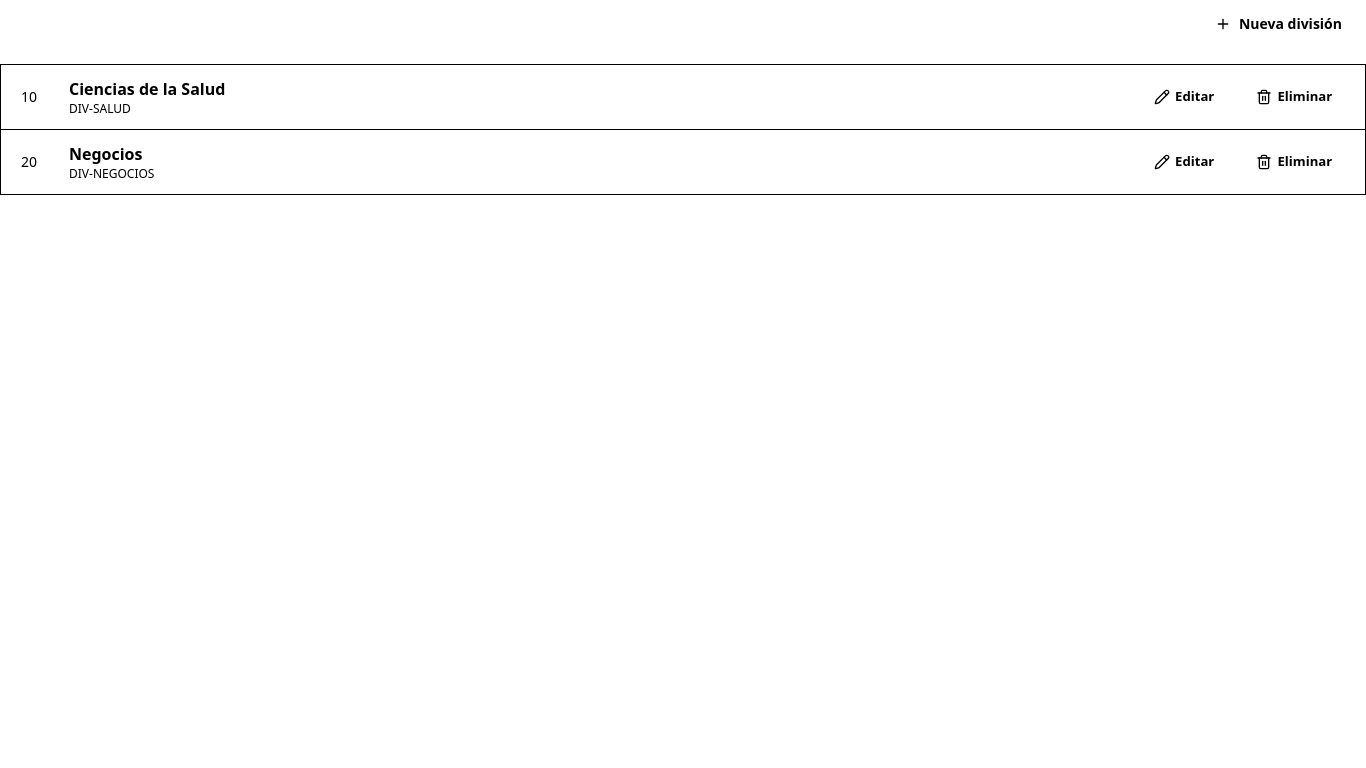
Scenario: singular wording for one career, one workshop and one shared workshop
The width and height of the screenshot is (1366, 768).
Click the button with aria-label "Eliminar Ciencias de la Salud": (1294, 97) [1243,77,1345,117]
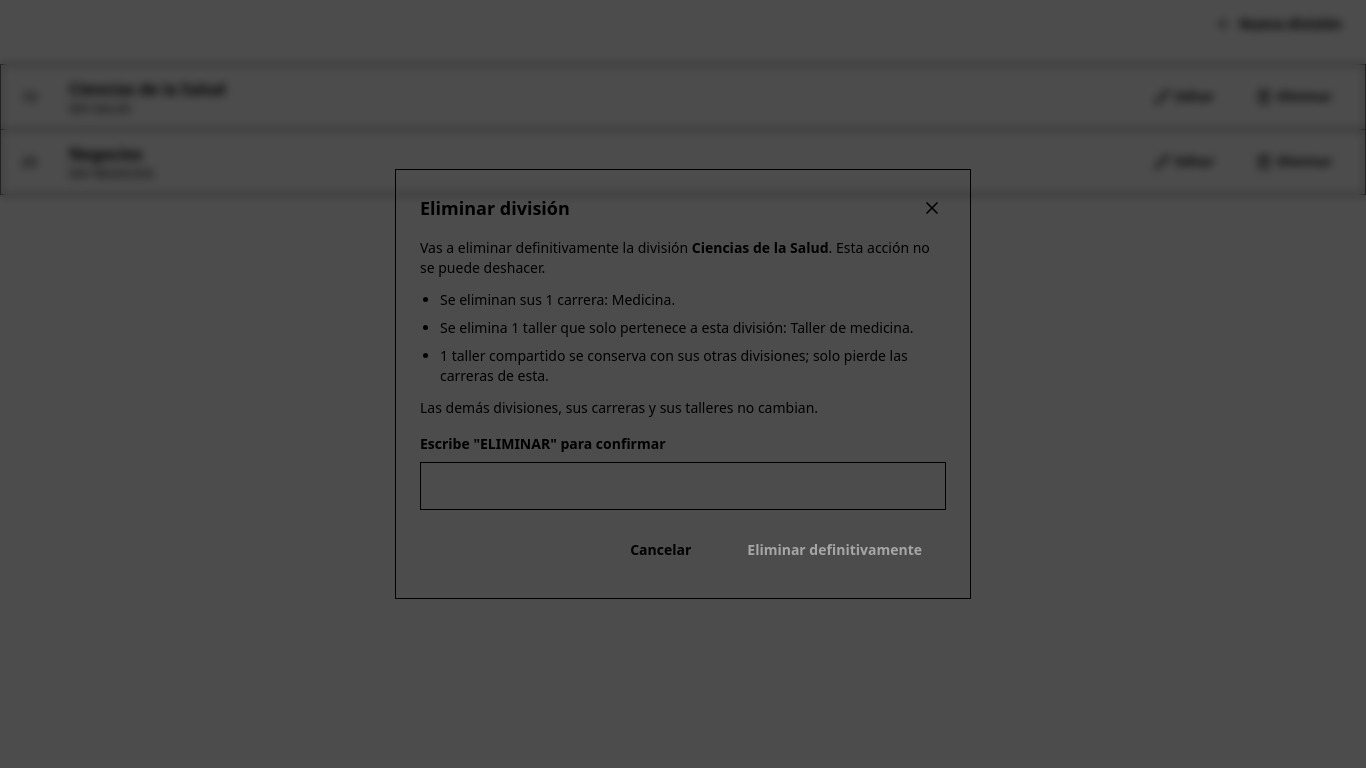
Check: the list item "Se eliminan sus 1 carrera: Medicina." is shown, box [440,290,675,309]
Check: the list item "Se elimina 1 taller que solo pertenece a esta división: Taller de medicina." is shown, box [440,318,946,338]
Check: the list item "1 taller compartido se conserva con sus otras divisiones; solo pierde las carreras de esta." is shown, box [440,346,946,386]
